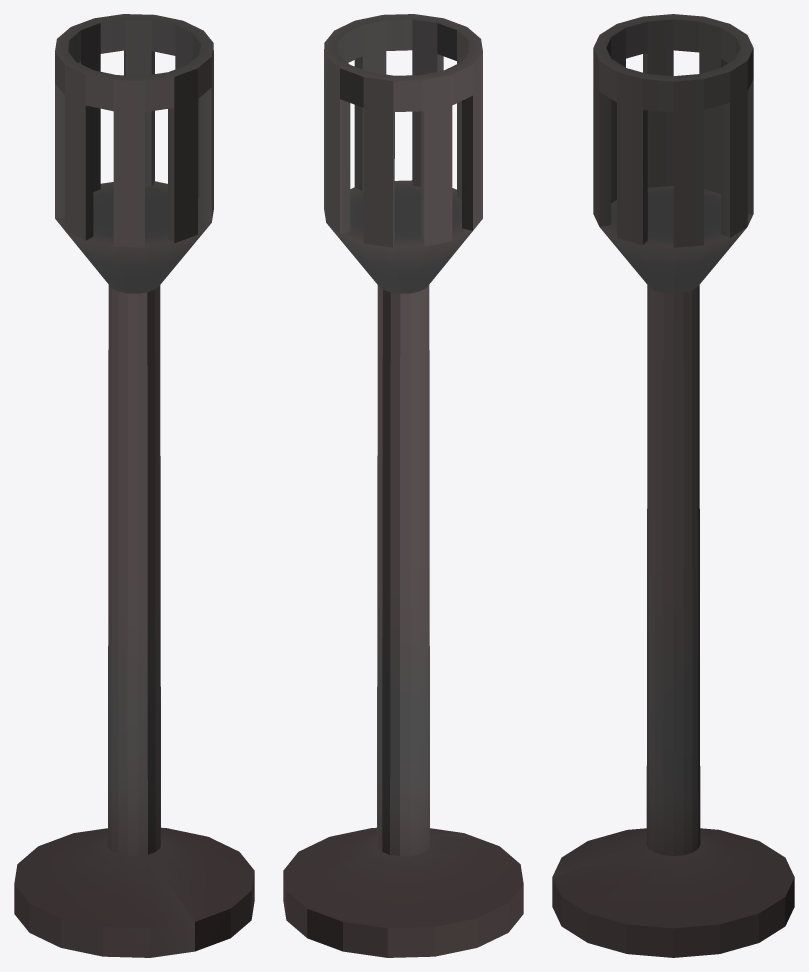
Rendered from Cave_Torch 2.fbx.
3 views of the same model, side by side, from view 1: azimuth 30°, elevation 25°; view 2: azimuth 150°, elevation 25°; view 3: azimuth 270°, elevation 25° (orthographic).
Parts seen in each view (by area): view 1: Cylinder.001; view 2: Cylinder.001; view 3: Cylinder.001.
Part boxes in pixels (<box>): Cylinder.001: <box>14,14,254,957</box>; Cylinder.001: <box>283,14,523,957</box>; Cylinder.001: <box>552,14,794,957</box>.
Size of the model in its own units: 9.89 by 38.67 by 9.89.
